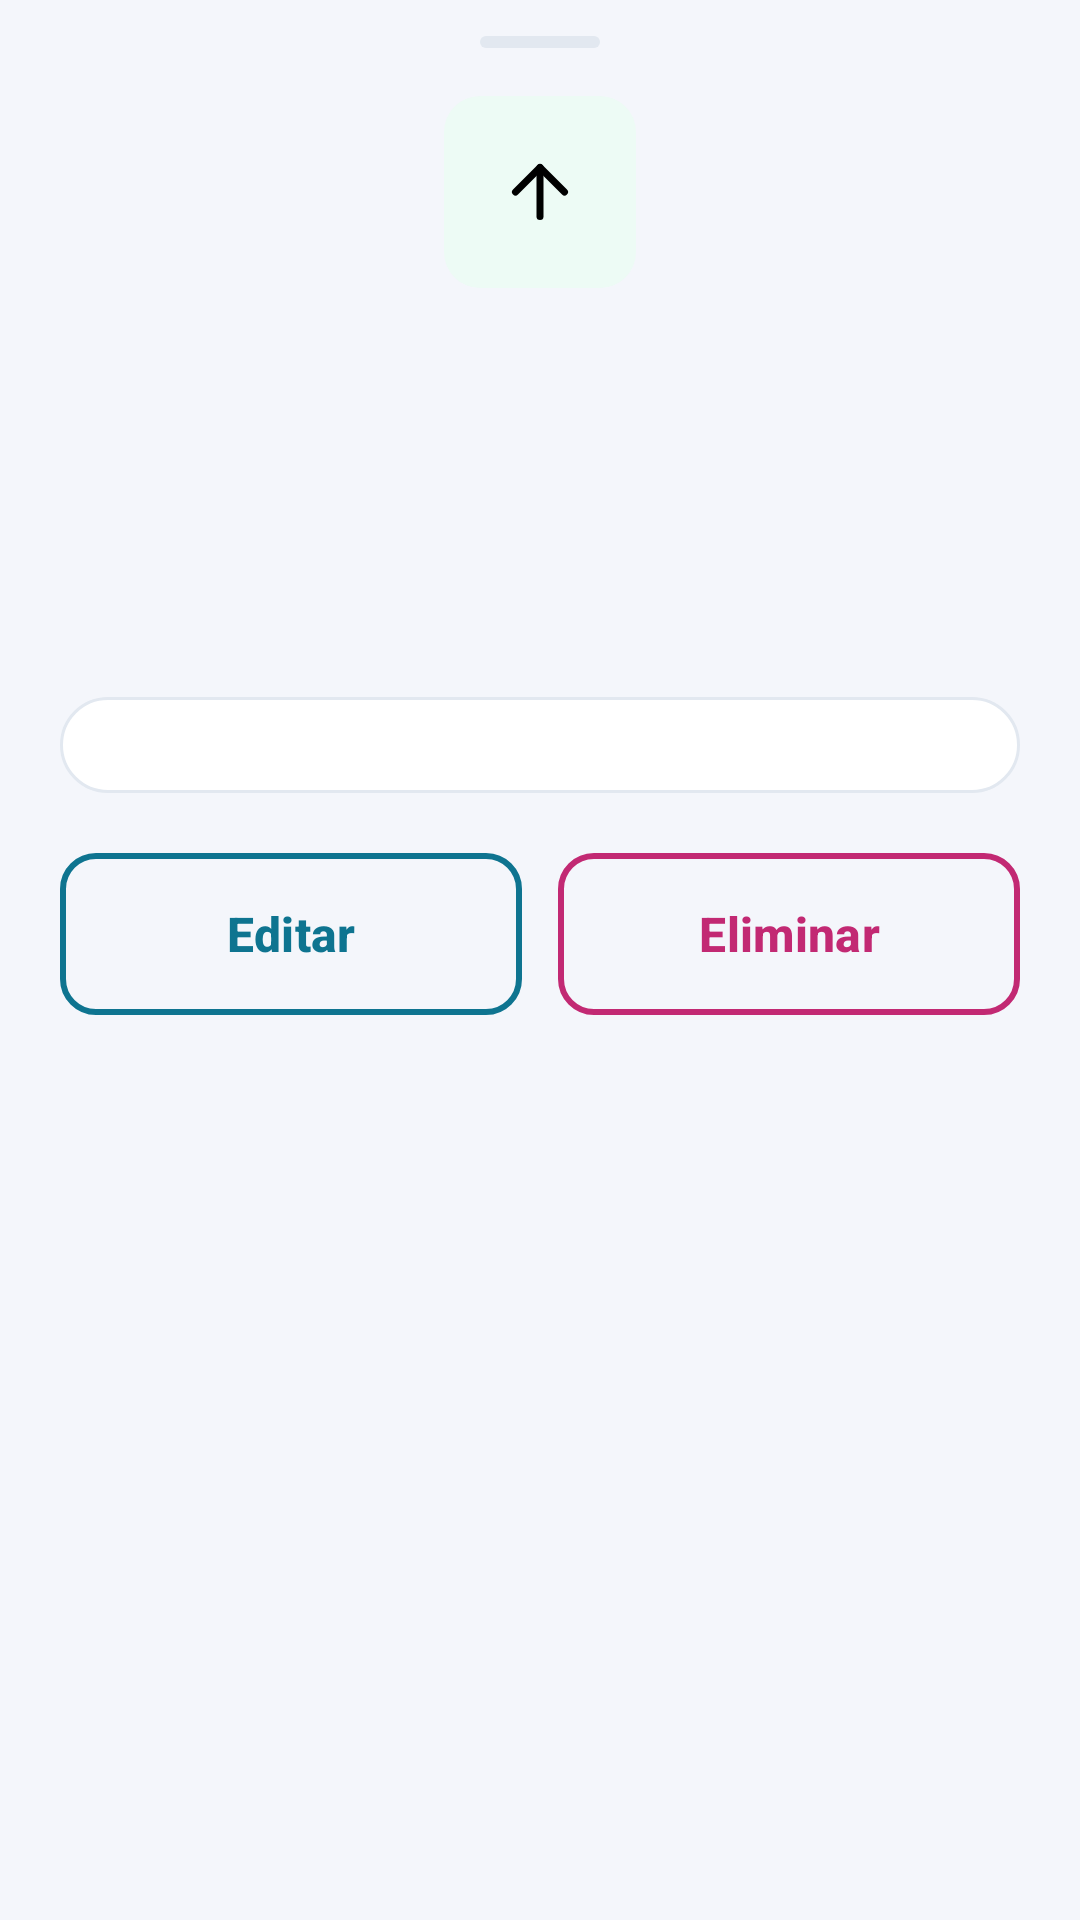

Where to tap for icons on this 1080x1920 app screen, as [x,y]:
arrow up: [539,191]
